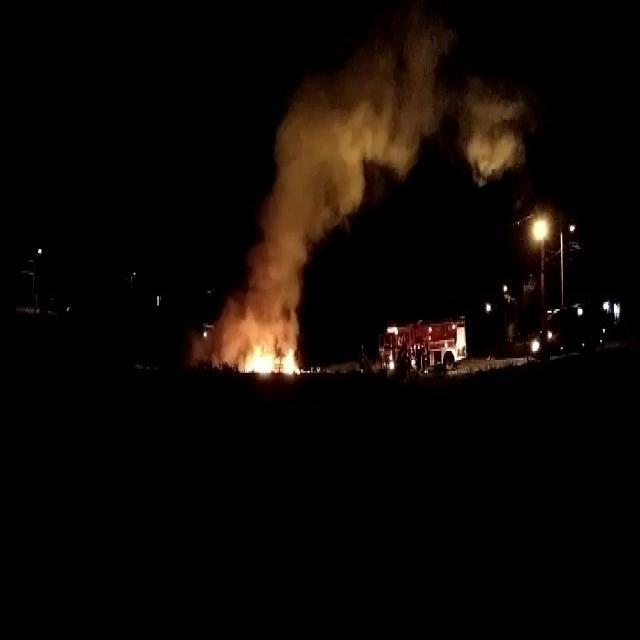Fire: (244, 338, 305, 380)
Smoke: (244, 222, 310, 342), (312, 98, 362, 250), (262, 86, 310, 219), (414, 27, 446, 160), (364, 103, 414, 172), (196, 296, 242, 366)
